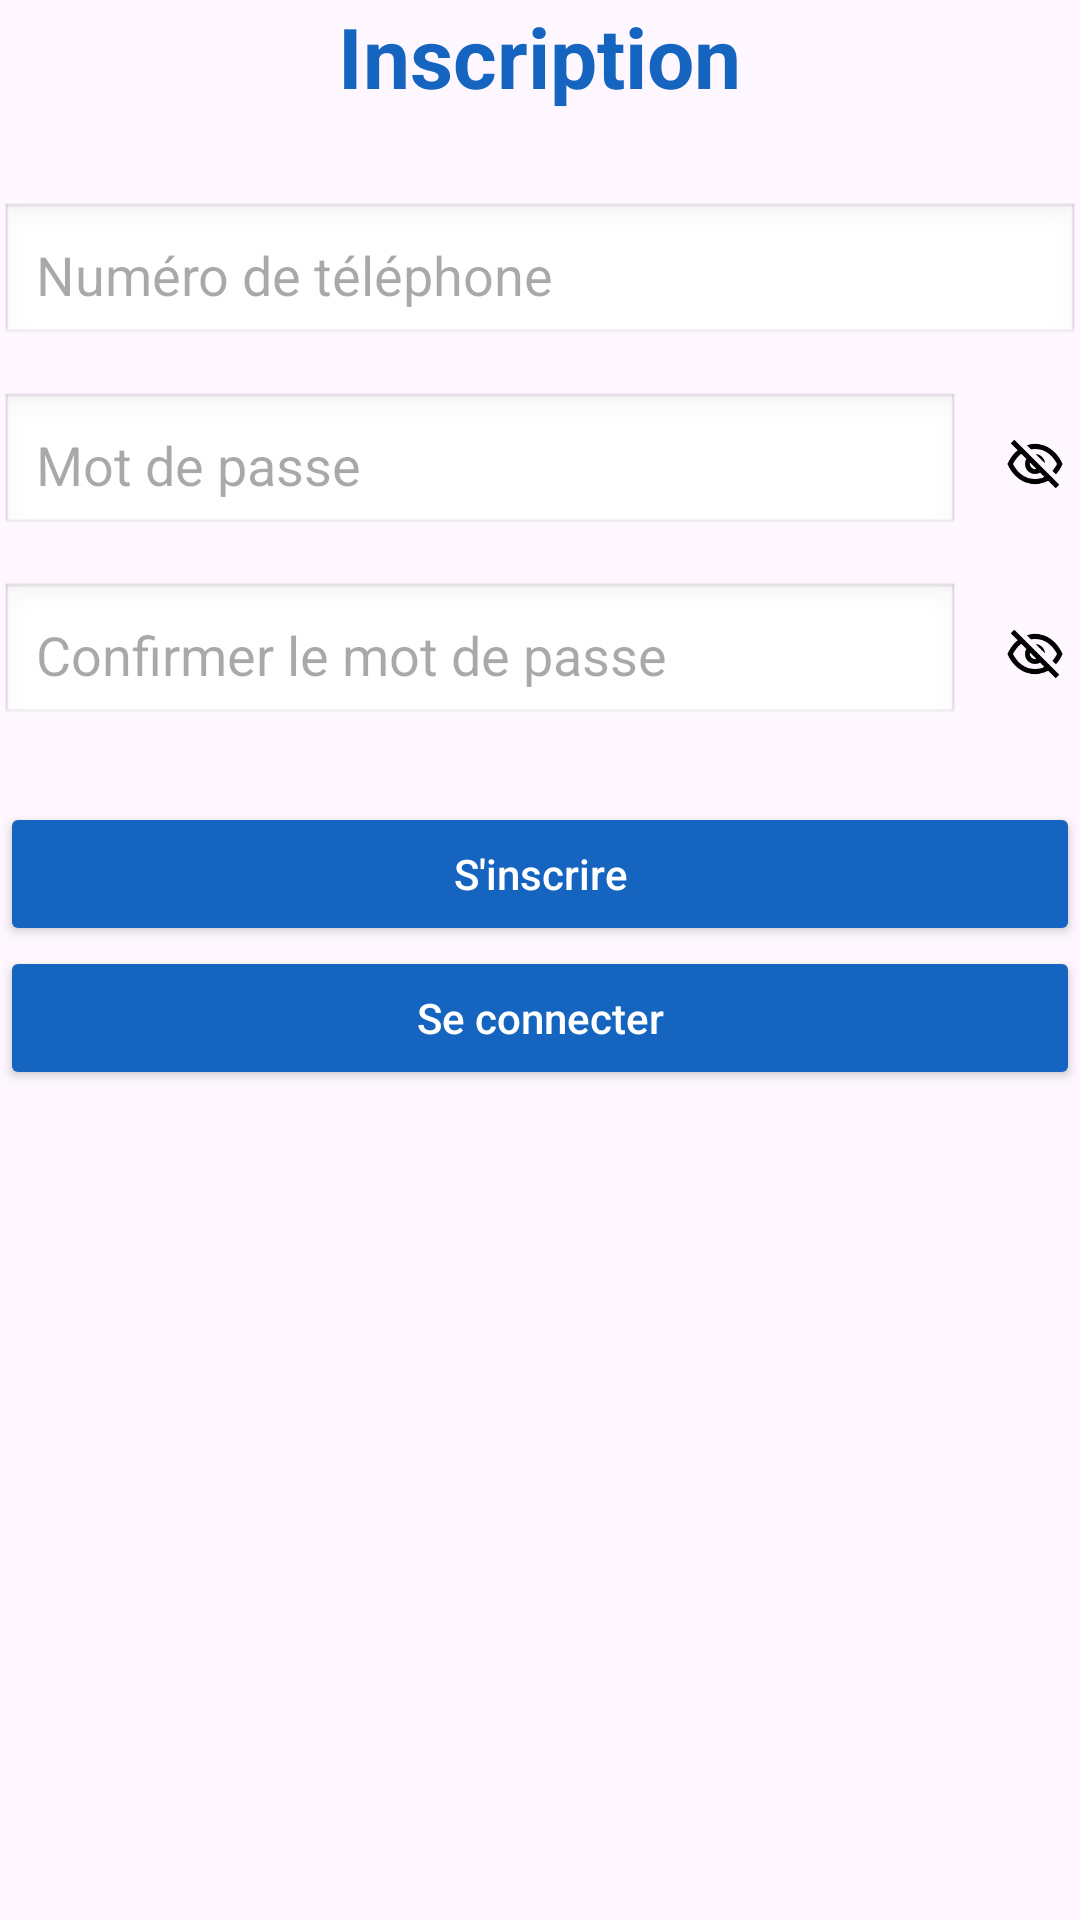

Icon click points for this 1080w x 1920h phone screenshot, format [x,y]:
invisible: [1035,464], [1035,654]
